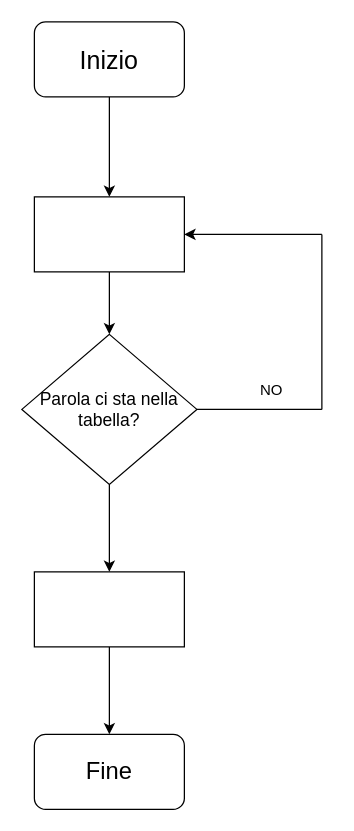
Image size: 354x831. Some labels were removed from this diagram. Each missing label, with the centre of its shape:
La stampo: the point at 108,609
Leggi parola random: the point at 108,234
